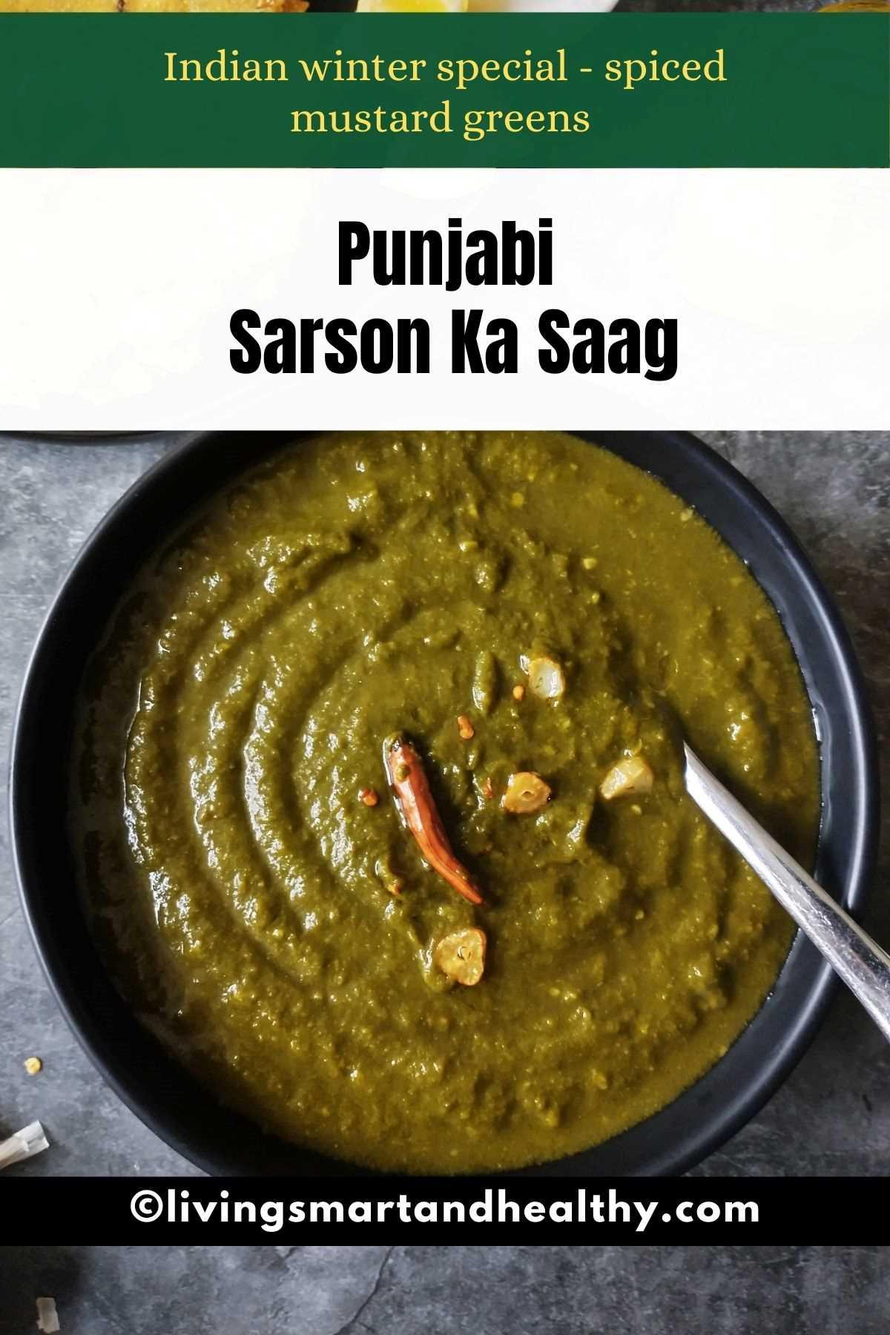saag: (99, 441, 852, 1170)
